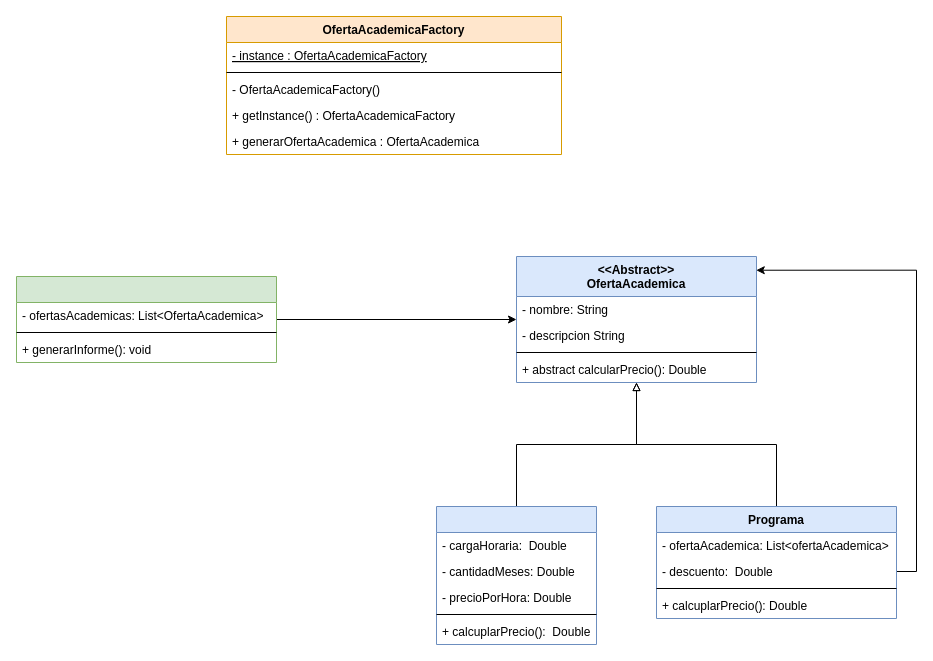
Image size: 933x661. Some labels were removed from this diagram. The box of each missing label's shape, as (x1, y1, x2, y2) in pixels:
Curso: (436, 506, 596, 644)
Instituto: (16, 276, 276, 362)
